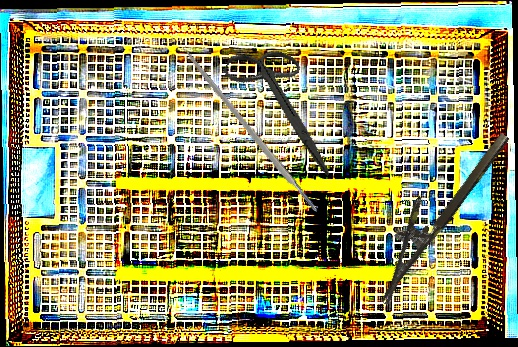Iris Scissors: (201, 33, 367, 177)
Needle Holder: (354, 115, 512, 306)
Scalpel Handle: (182, 49, 321, 216)
